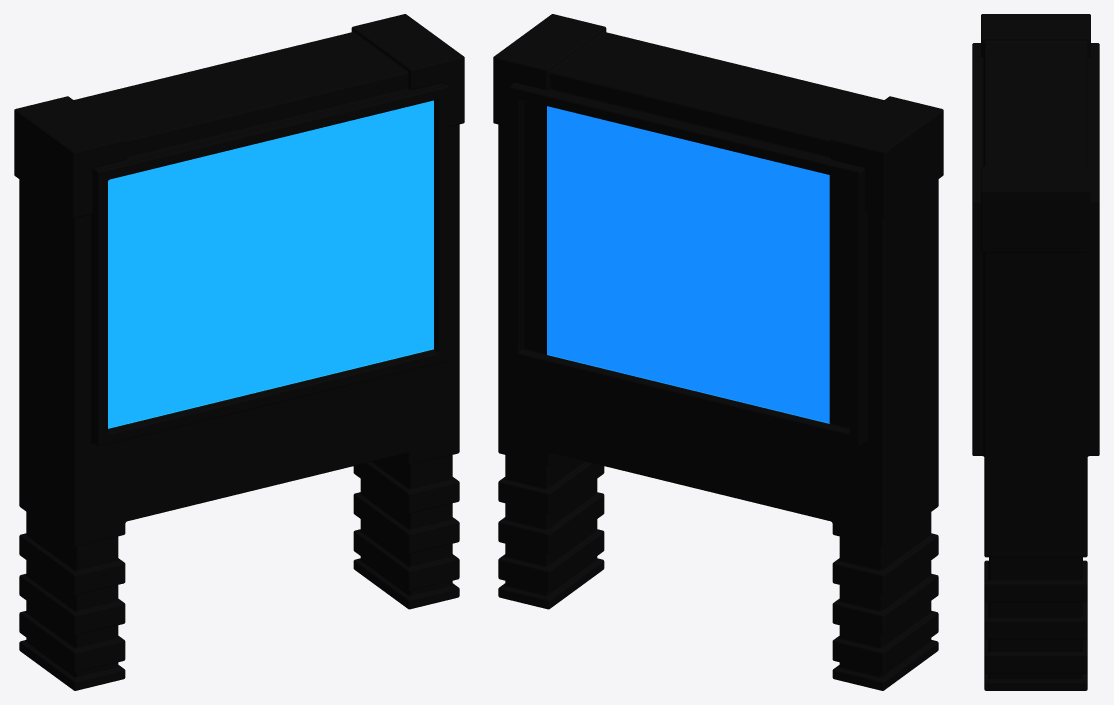
File: slide.fbx
3 renders of one model, left to right at view 1: azimuth 30°, elevation 25°; view 2: azimuth 150°, elevation 25°; view 3: azimuth 270°, elevation 25°, orthographic. The views are drawn at different scales.
Visible parts, largest first — view 1: Plane; view 2: Plane; view 3: Plane.
Boxes of the visible parts, bbox=[...] form: Plane: bbox=[14, 14, 464, 690]; Plane: bbox=[493, 14, 943, 690]; Plane: bbox=[972, 14, 1099, 690].
Bounding box in the file's own units: 305 × 403 × 92.52.
